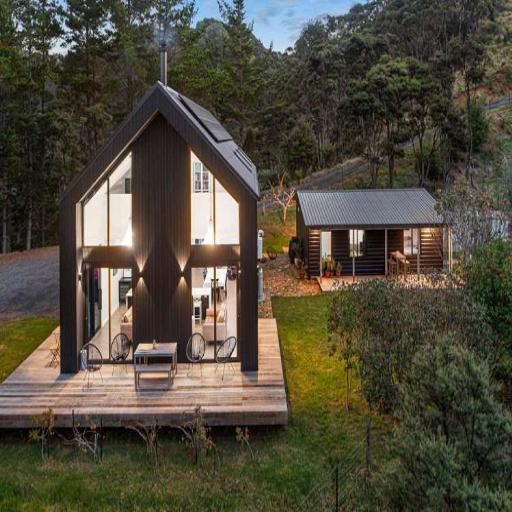casa: (45, 44, 290, 405)
